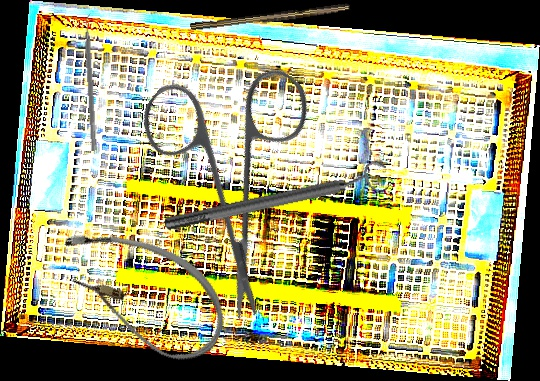Cannula: (39, 212, 242, 374)
Fixation Ring: (160, 157, 392, 241)
Iris Scissors: (78, 17, 386, 325)
Scalpel Handle: (189, 0, 352, 36)
Spatula Surgical: (81, 13, 104, 151)
